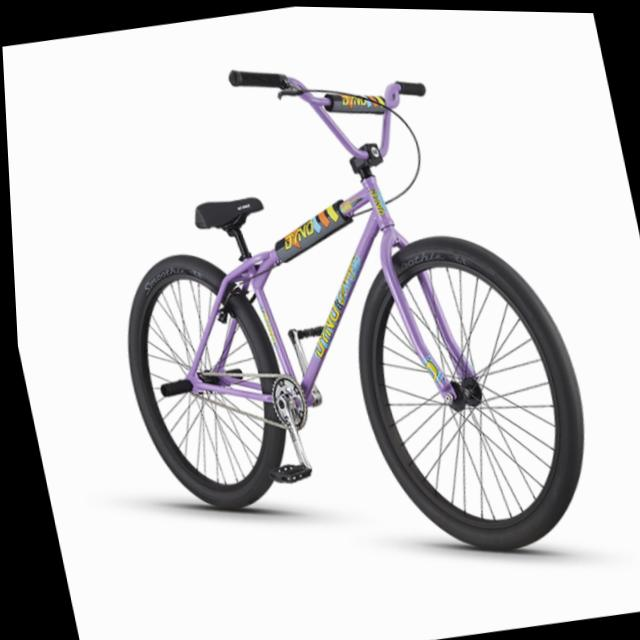bmx-bike: (66, 21, 612, 607)
